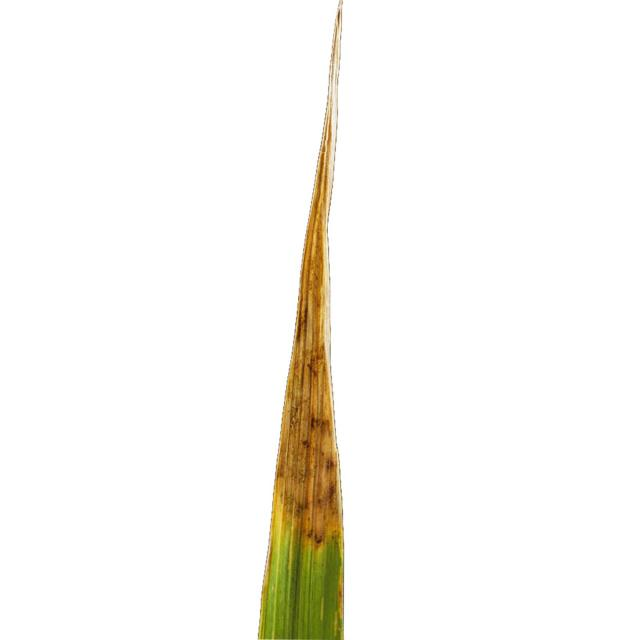Leaf scald: (231, 0, 460, 640)
